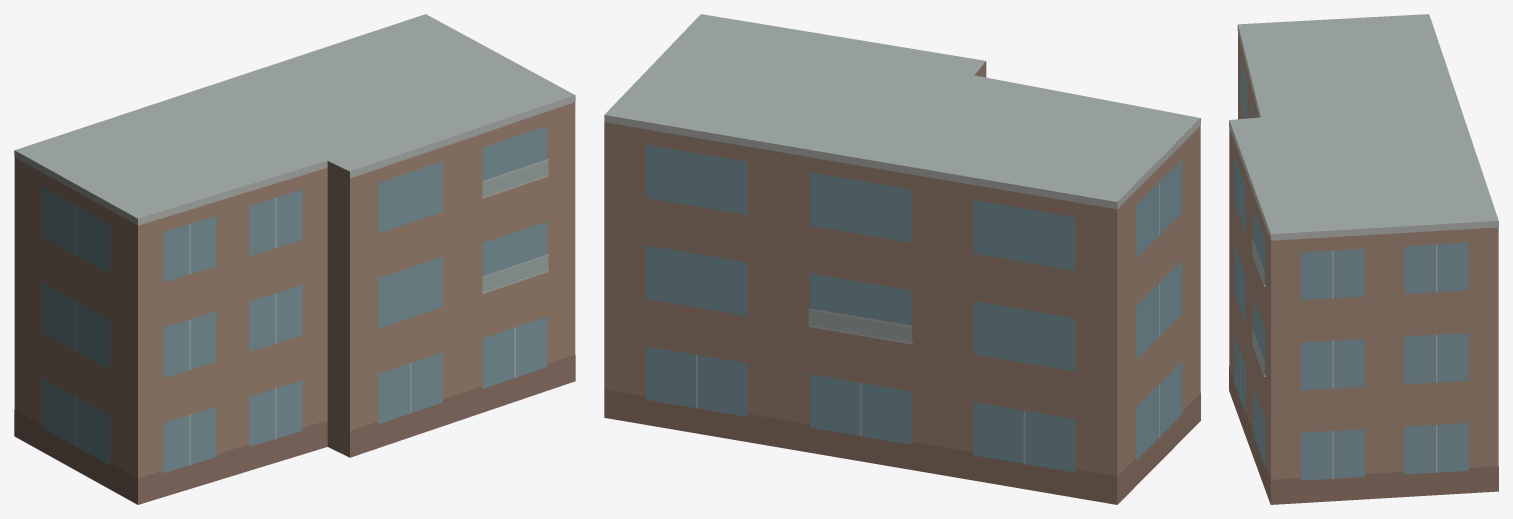
File: survey-upis-32575372.glb
3 renders of one model, left to right at view 1: azimuth 30°, elevation 25°; view 2: azimuth 150°, elevation 25°; view 3: azimuth 270°, elevation 25°, orthographic. The views are drawn at different scales.
Parts seen in each view (by area): view 1: survey-upis-32575372.tmp; view 2: survey-upis-32575372.tmp; view 3: survey-upis-32575372.tmp.
Part boxes in pixels (x1,y1,x2,y2): survey-upis-32575372.tmp: [14, 14, 575, 504]; survey-upis-32575372.tmp: [604, 14, 1200, 504]; survey-upis-32575372.tmp: [1229, 14, 1498, 504].
Size of the model in its own units: 17.64 by 10.1 by 9.13.
